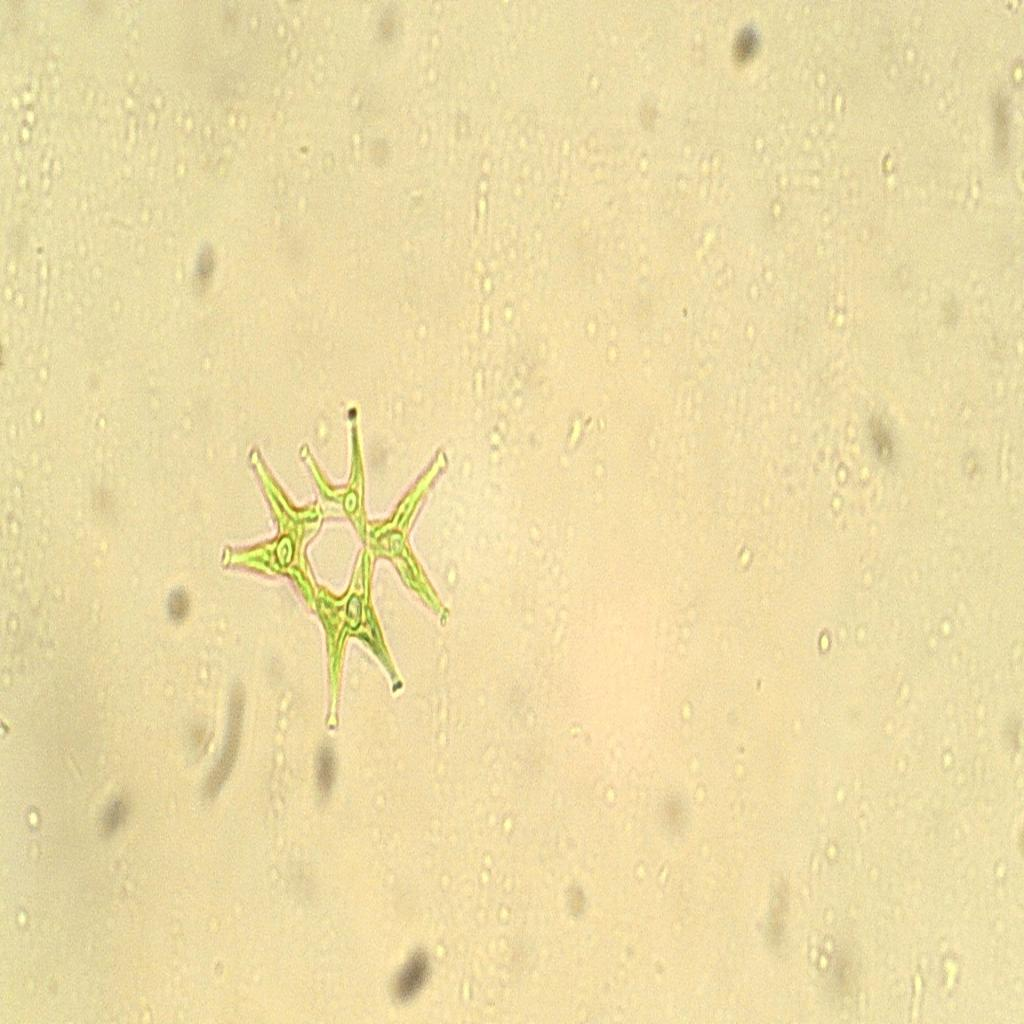Pediastrum_75FI: (212, 399, 471, 752)
